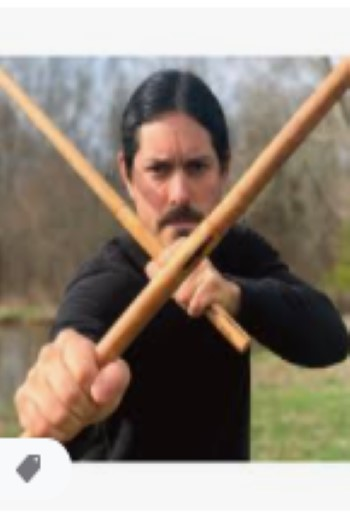baston_e: (91, 83, 349, 345), (0, 84, 247, 331)
baston_v: (221, 317, 260, 357)
